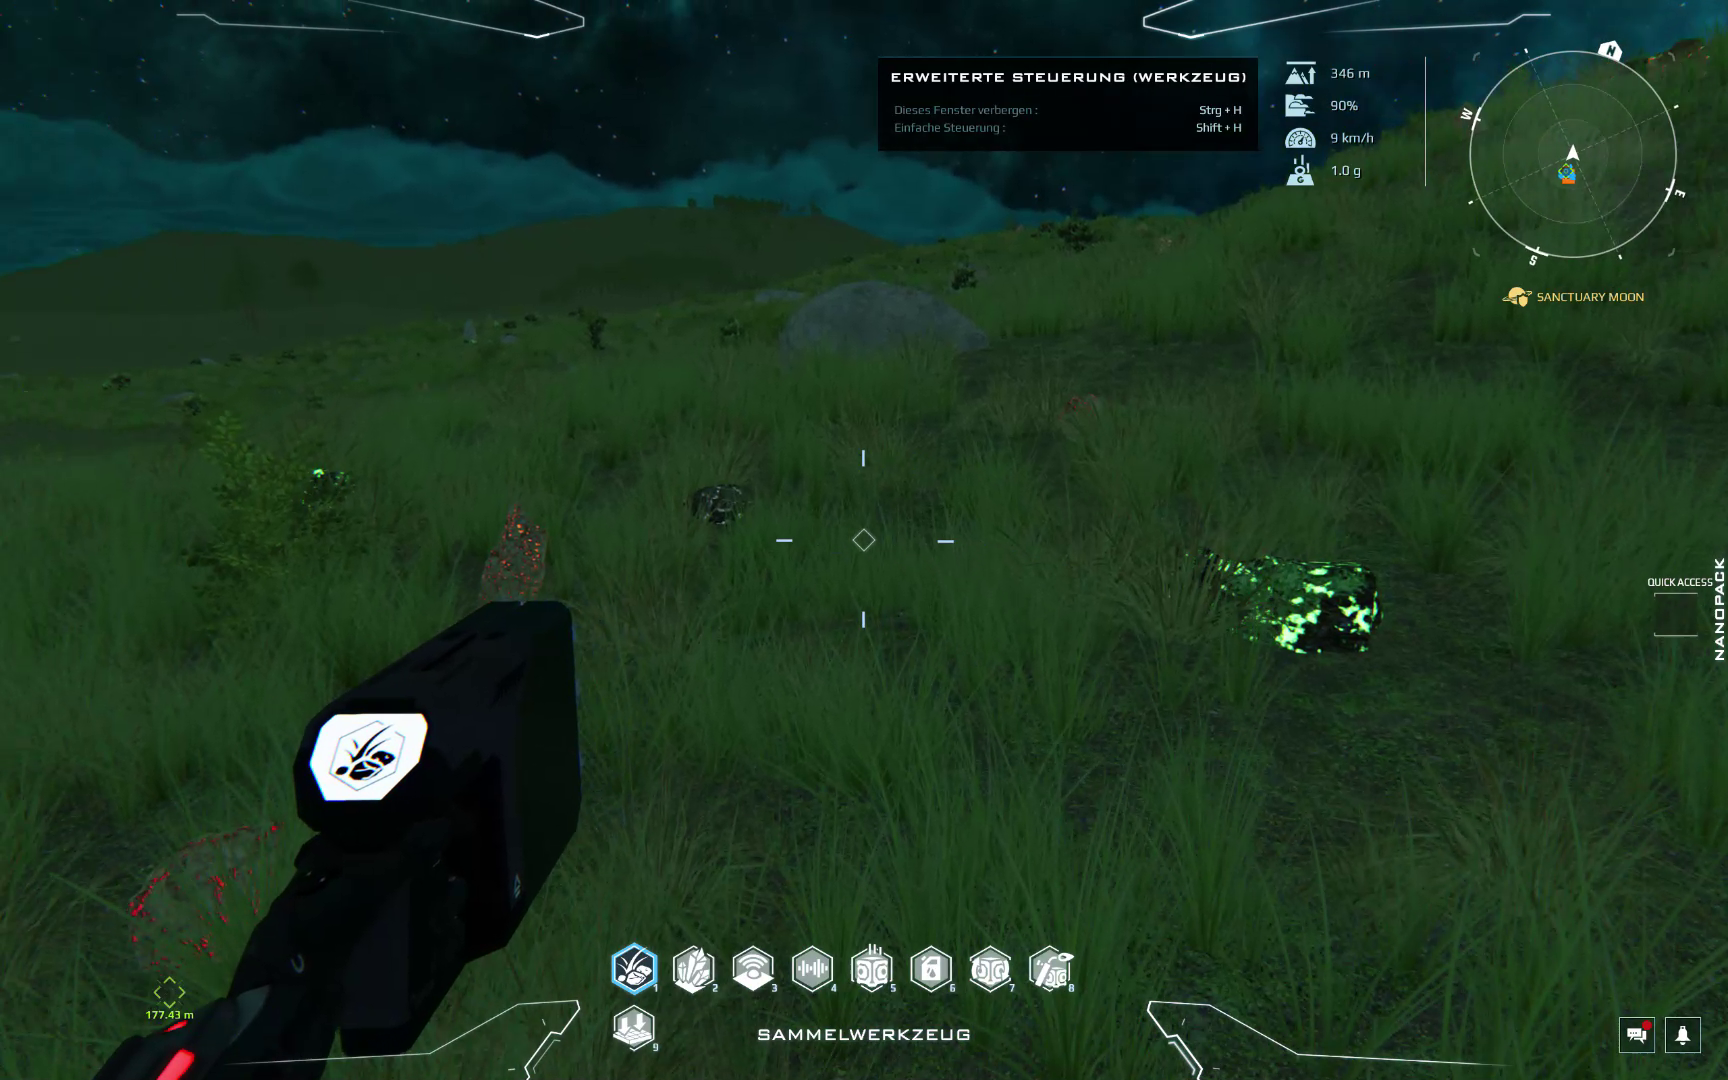Ore: (129, 815, 289, 1017), (1179, 541, 1378, 671), (476, 505, 552, 606), (281, 464, 362, 528), (685, 479, 760, 531)
